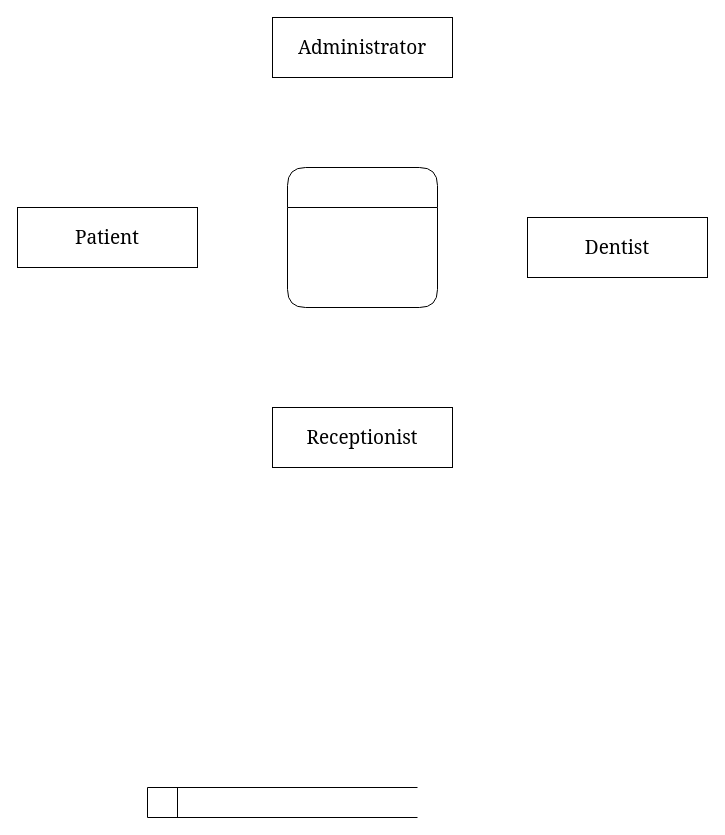
Image size: 725x835. Some labels were removed from this diagram. The centre of each missing label's shape, as x and y in pixels:
0 Dental Clinic Management System: point (362, 237)
Patients Files: point (282, 802)
